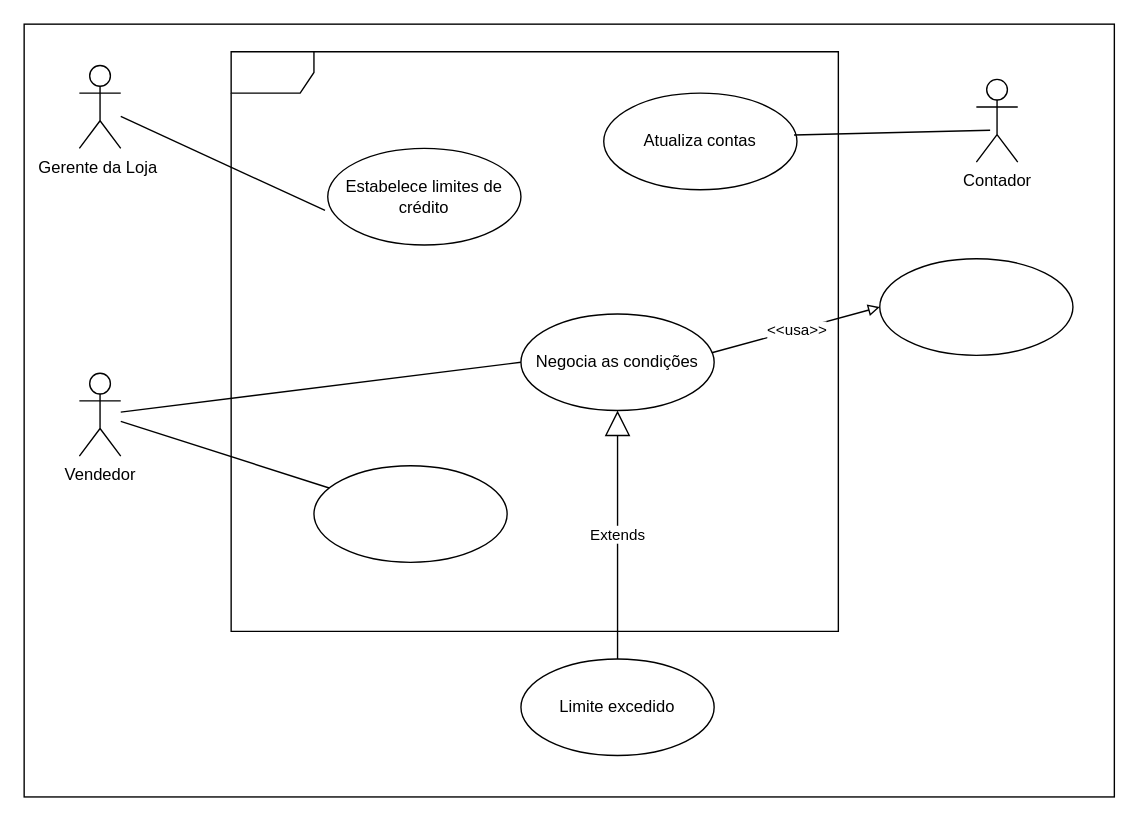
The diagram is 1139 pixels wide and 821 high, and some of its shapes have lost their labels. The box of each missing label's shape, as (x1, y1, x2, y2) in pixels:
Crédito: (230, 50, 838, 631)
Encontra a oportunidade: (313, 464, 507, 562)
Pesquisa de Mercado: (878, 257, 1073, 355)
